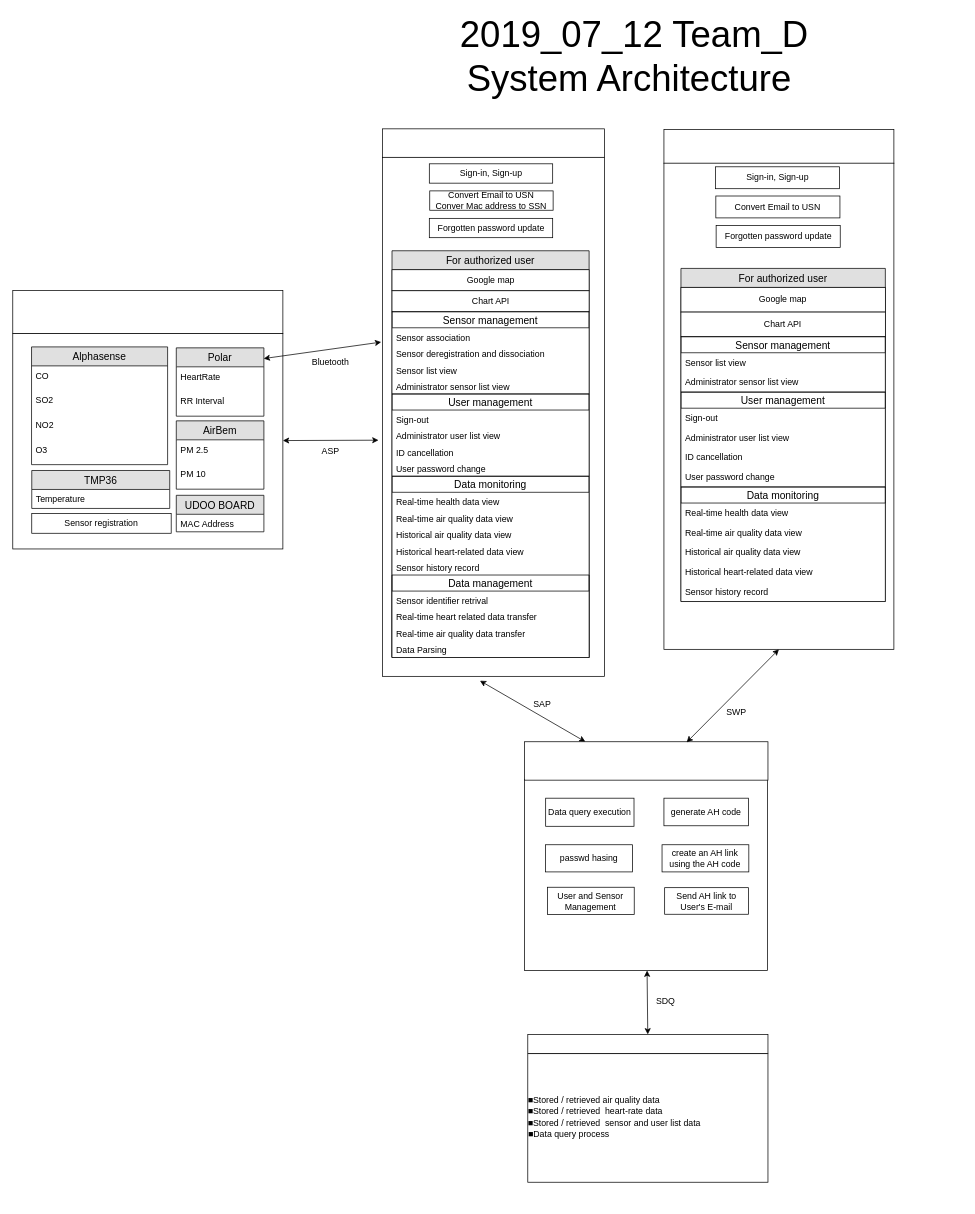
Some shapes in this 975 by 1214 pixel diagram are drawn without their labels. Here are the shapes that lost their labels. From the top down, the centre of each, then its label:
At point 493,142: "App client".
At point 778,146: "Web client".
At point 147,312: "Sensor".
At point 646,760: "Server".
At point 647,1044: "Database".
